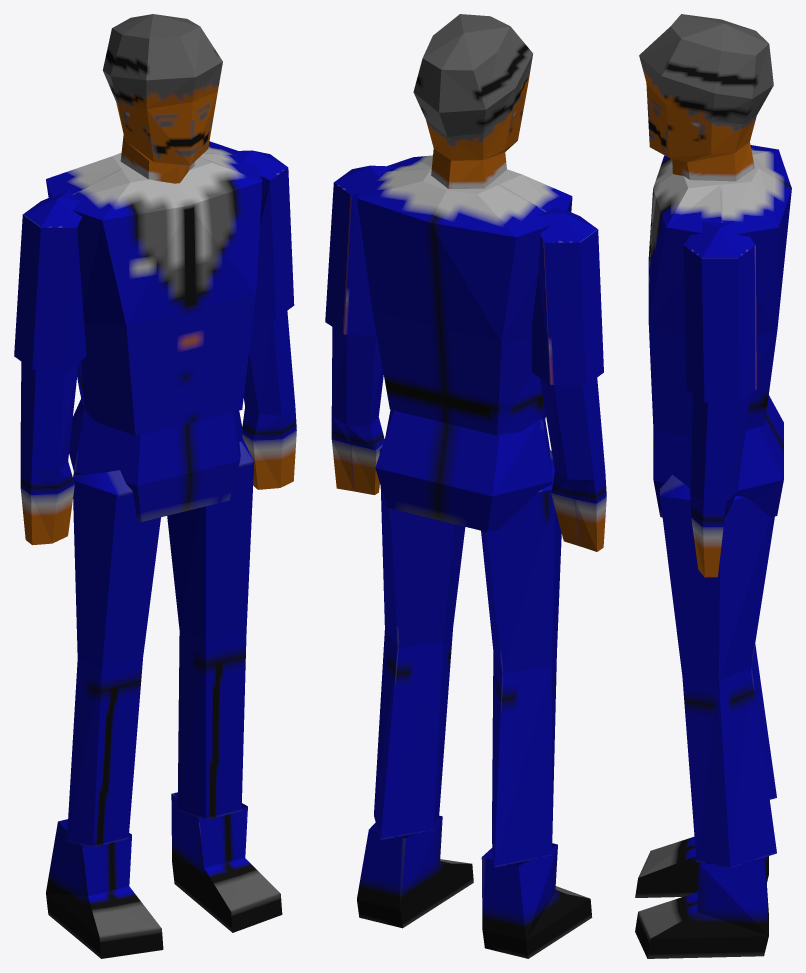
Rendered from James3d.fbx.
The picture shows the model from 3 angles, left to right: view 1: azimuth 30°, elevation 25°; view 2: azimuth 150°, elevation 25°; view 3: azimuth 270°, elevation 25°; orthographic projection.
Visible parts, largest first — view 1: man; view 2: man; view 3: man.
Boxes of the visible parts, box(x1,y1,x2,y2) form: man: box(14, 14, 296, 958); man: box(325, 14, 606, 958); man: box(635, 14, 791, 958).
Bounding box in the file's own units: 26 × 83.61 × 13.34.
1 material, 1 textured.
